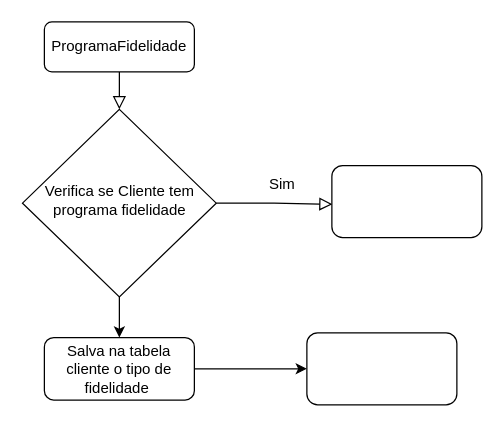
The diagram is 504 pixels wide and 428 high, and some of its shapes have lost their labels. Each missing label, with the centre of its shape:
Envia por email mensagem de cadastro feito com sucesso: point (381, 368)
Retorna mensagem cliente ja possui o programa fidelidade: point (406, 201)
